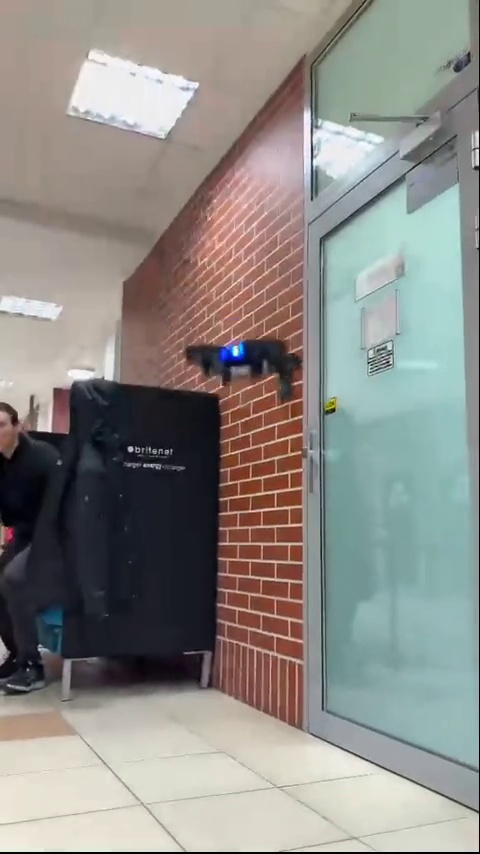drone: (185, 339, 304, 393)
no vest: (0, 399, 71, 704)
